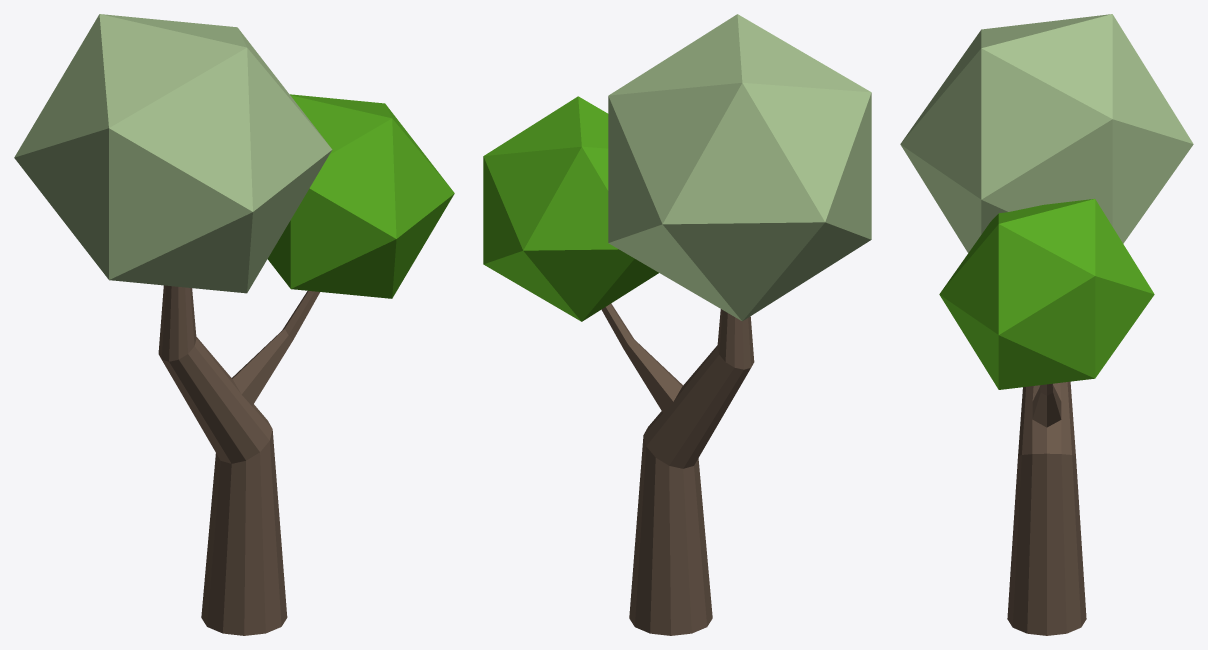
The model's file is Isl_15_Tree_3.fbx.
3 renders of one model, left to right at view 1: azimuth 30°, elevation 25°; view 2: azimuth 150°, elevation 25°; view 3: azimuth 270°, elevation 25°, orthographic. The views are drawn at different scales.
Parts seen in each view (by area): view 1: Isl_15_Tree_3; view 2: Isl_15_Tree_3; view 3: Isl_15_Tree_3.
Boxes of the visible parts, left/top/right/bottom form: Isl_15_Tree_3: left=14, top=14, right=454, bottom=635; Isl_15_Tree_3: left=483, top=14, right=871, bottom=635; Isl_15_Tree_3: left=900, top=14, right=1193, bottom=635.
Size of the model in its own units: 447 by 326 by 681.
Materials: 1 (1 with a texture image).
